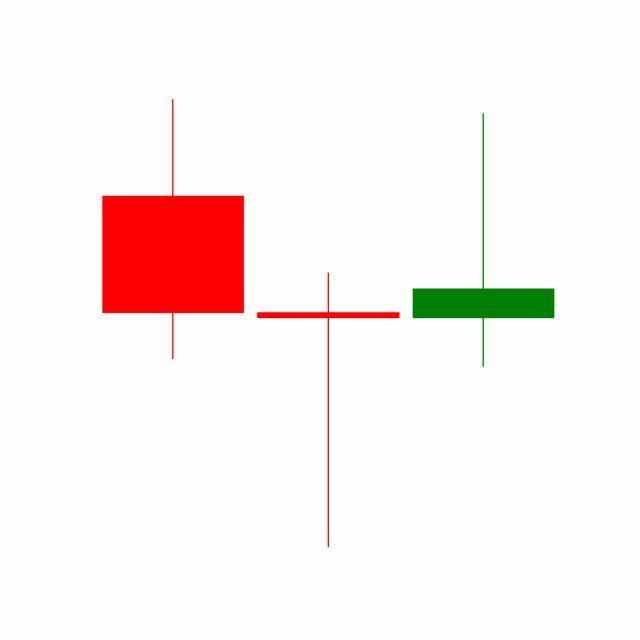Hammer: (250, 270, 407, 551)
